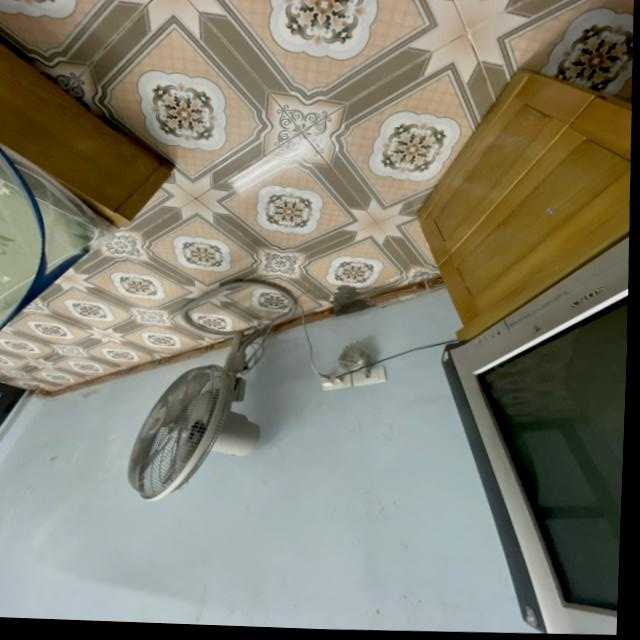outlet: (353, 363, 388, 386), (321, 369, 353, 391)
